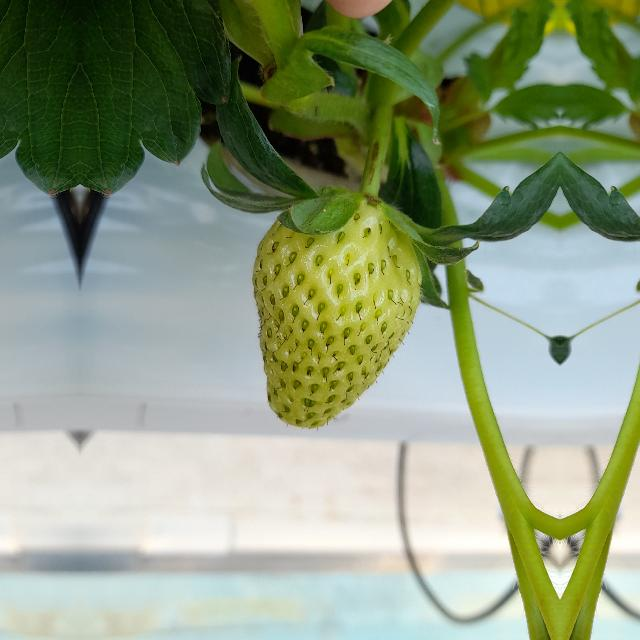Health_25: (252, 192, 424, 430)
